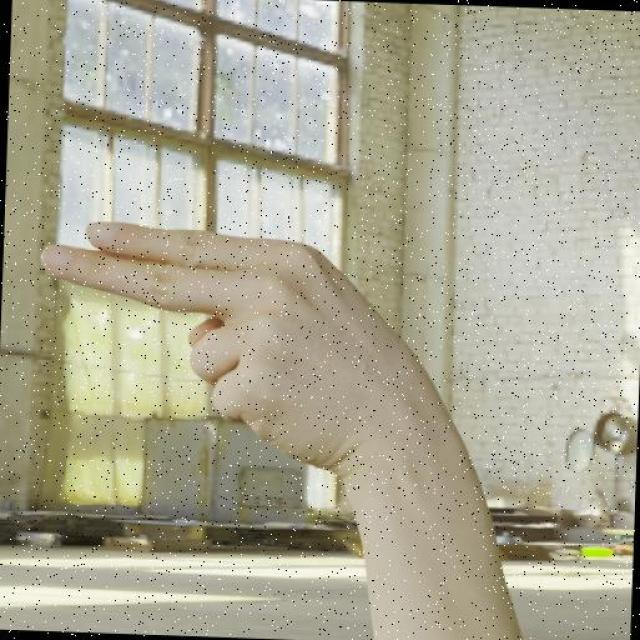H: (24, 214, 421, 488)
